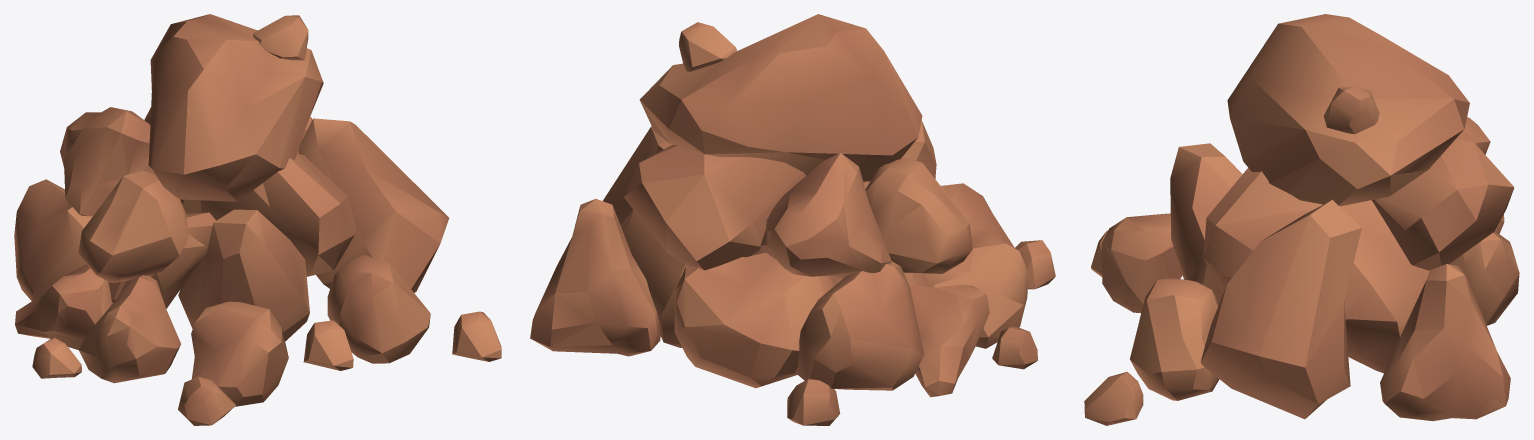
File: pile_clay.glb
The picture shows the model from 3 angles, left to right: view 1: azimuth 30°, elevation 25°; view 2: azimuth 150°, elevation 25°; view 3: azimuth 270°, elevation 25°; orthographic projection. The views are drawn at different scales.
Visible parts, largest first — view 1: Stone_Chunks_Large; view 2: Stone_Chunks_Large; view 3: Stone_Chunks_Large.
Boxes of the visible parts, x1=… form: Stone_Chunks_Large: x1=14, y1=14, x2=501, y2=425; Stone_Chunks_Large: x1=530, y1=14, x2=1055, y2=425; Stone_Chunks_Large: x1=1084, y1=14, x2=1519, y2=425.
Size of the model in its own units: 1.5 by 1.08 by 1.35.
Materials: 1 (1 with a texture image).
